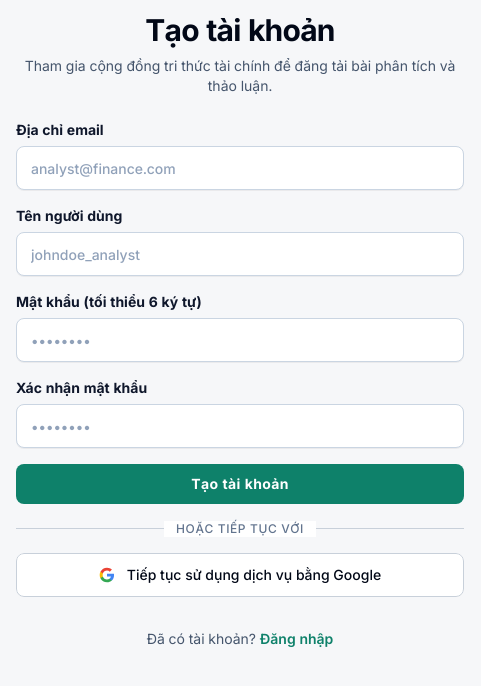
it: RegisterForm Component › displays field-level error when backend returns 409 conflict code
Type "unique@finance.com" into the field labelled "Địa chỉ email".
click(240, 168); type("unique@finance.com")  # box [16,146,464,190]
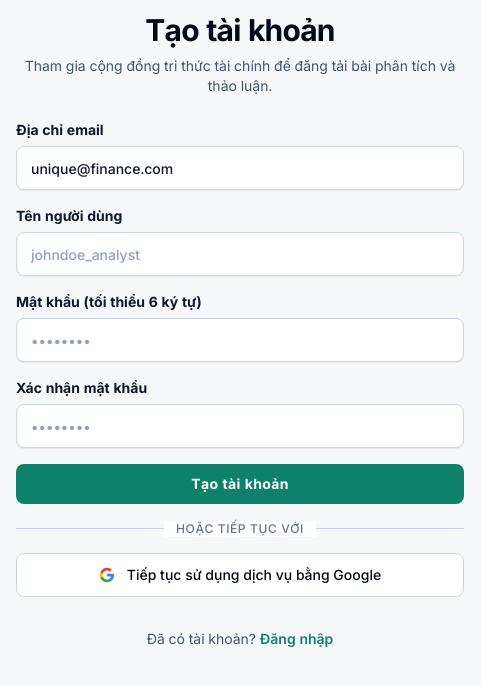
Type "existing_user" into the field labelled "Tên người dùng".
click(240, 254); type("existing_user")  # box [16,232,464,276]
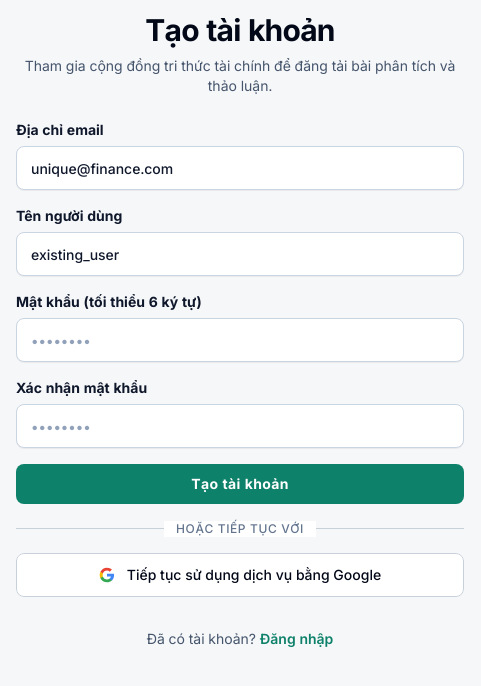
Type "password123" into the password field labelled "Mật khẩu (tối thiểu 6 ký tự)".
click(240, 340); type("password123")  # box [16,318,464,362]
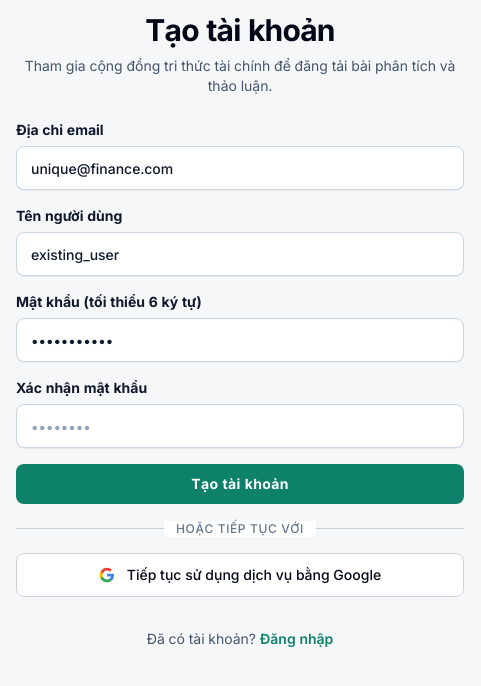
Type "password123" into the password field labelled "Xác nhận mật khẩu".
click(240, 426); type("password123")  # box [16,404,464,448]
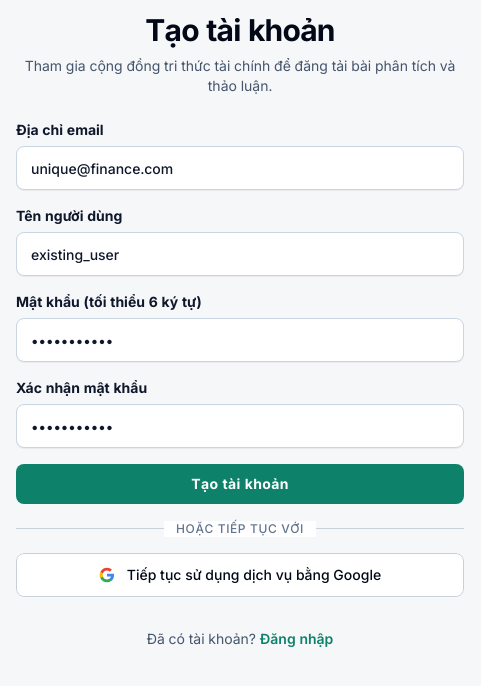
Click the button "Tạo tài khoản".
click(240, 484)  # box [16,464,464,504]
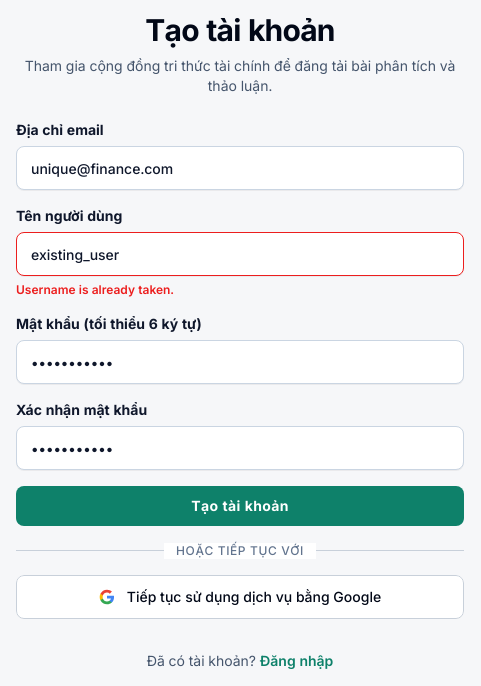
Check: the text "Username is already taken." is shown, box [16,282,174,297]
